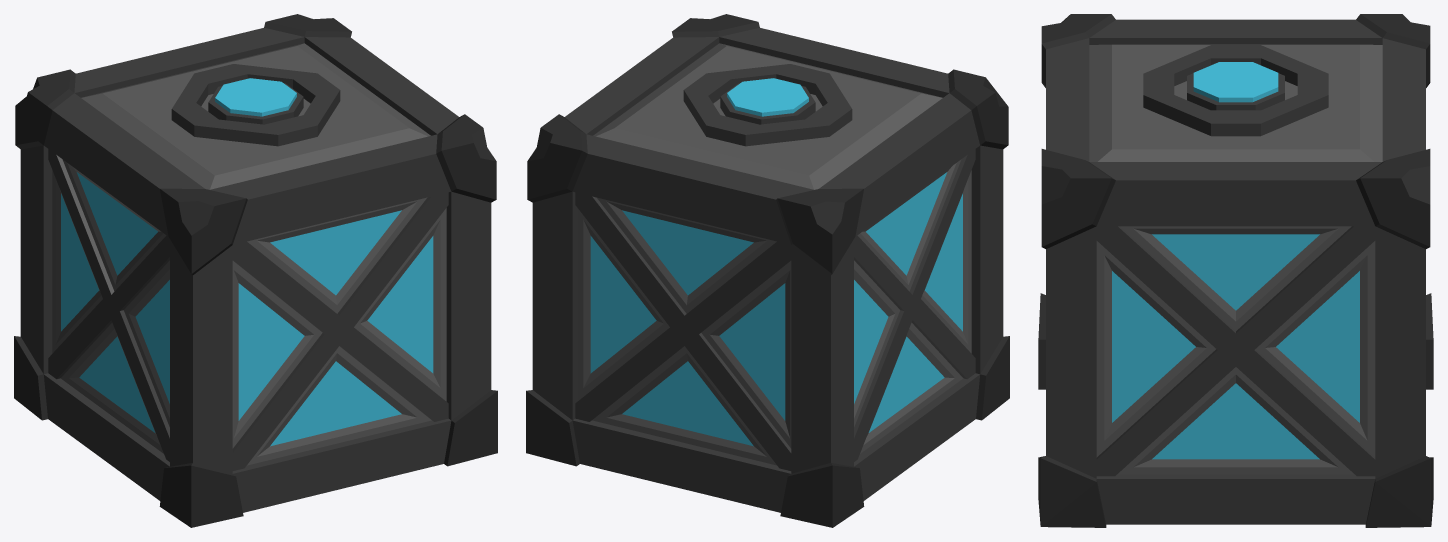
The picture shows the model from 3 angles, left to right: view 1: azimuth 30°, elevation 25°; view 2: azimuth 150°, elevation 25°; view 3: azimuth 270°, elevation 25°; orthographic projection. The views are drawn at different scales.
Visible parts, largest first — view 1: Box3; view 2: Box3; view 3: Box3.
Boxes of the visible parts, left/top/right/bottom form: Box3: left=14, top=14, right=497, bottom=527; Box3: left=526, top=14, right=1009, bottom=527; Box3: left=1038, top=14, right=1433, bottom=527.
Bounding box in the file's own units: 156 × 159 × 156.
